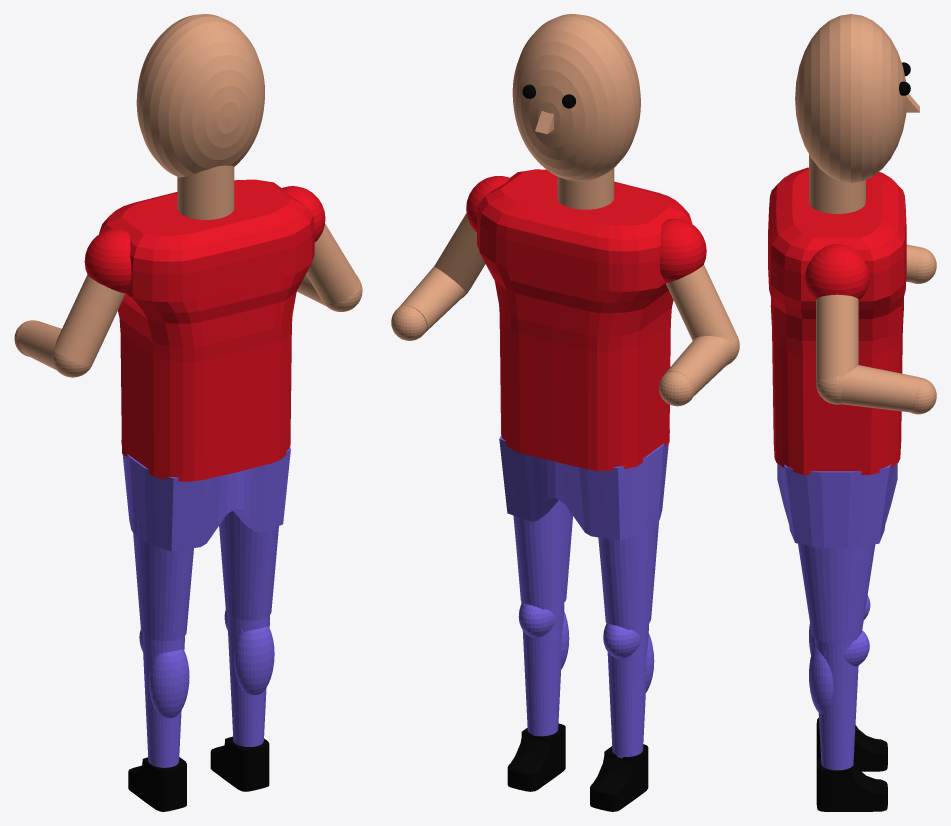
File: PWS poppetje.fbx
The picture shows the model from 3 angles, left to right: view 1: azimuth 30°, elevation 25°; view 2: azimuth 150°, elevation 25°; view 3: azimuth 270°, elevation 25°; orthographic projection.
Parts seen in each view (by area): view 1: Sphere.008; view 2: Sphere.008; view 3: Sphere.008.
Boxes of the visible parts, left/top/right/bottom form: Sphere.008: left=14, top=14, right=362, bottom=811; Sphere.008: left=391, top=14, right=739, bottom=811; Sphere.008: left=768, top=14, right=936, bottom=811.
Bounding box in the file's own units: 247 × 595 × 119.
